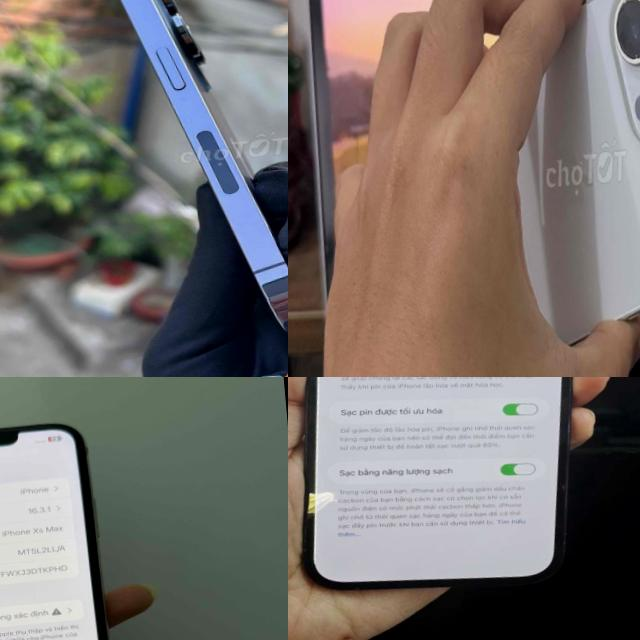gen_12_13: (288, 377, 615, 602), (476, 0, 640, 364)
gen_14: (103, 0, 288, 377)
gen_x_xs: (0, 424, 107, 640)
